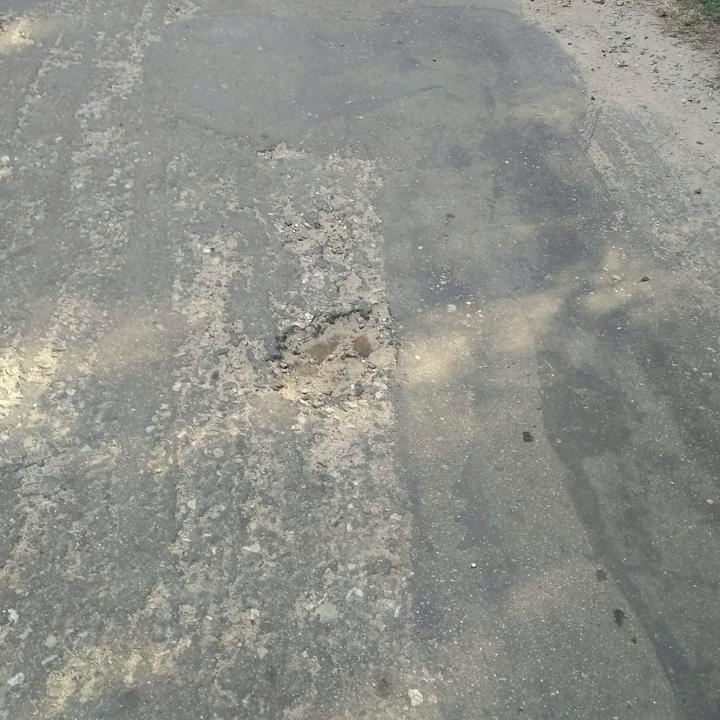pothole: (255, 296, 401, 413)
